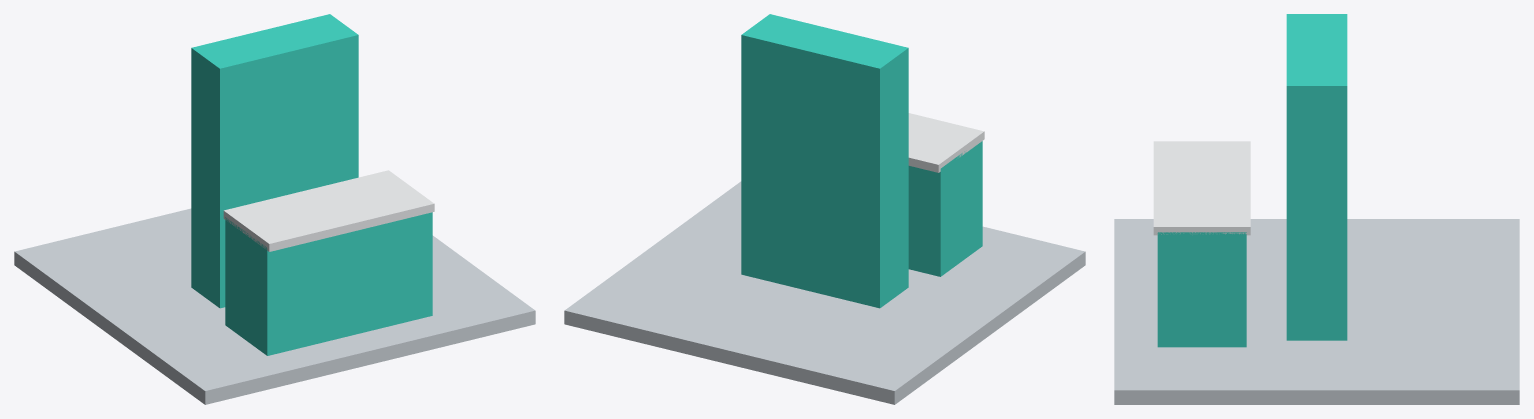
The picture shows the model from 3 angles, left to right: view 1: azimuth 30°, elevation 25°; view 2: azimuth 150°, elevation 25°; view 3: azimuth 270°, elevation 25°; orthographic projection. The views are drawn at different scales.
Visible parts, largest first — view 1: Exhibition Booth Concept; view 2: Exhibition Booth Concept; view 3: Exhibition Booth Concept.
Boxes of the visible parts, left/top/right/bottom form: Exhibition Booth Concept: left=14, top=14, right=535, bottom=404; Exhibition Booth Concept: left=564, top=14, right=1085, bottom=404; Exhibition Booth Concept: left=1114, top=14, right=1519, bottom=404.
Size of the model in its own units: 3 by 2.2 by 3.
